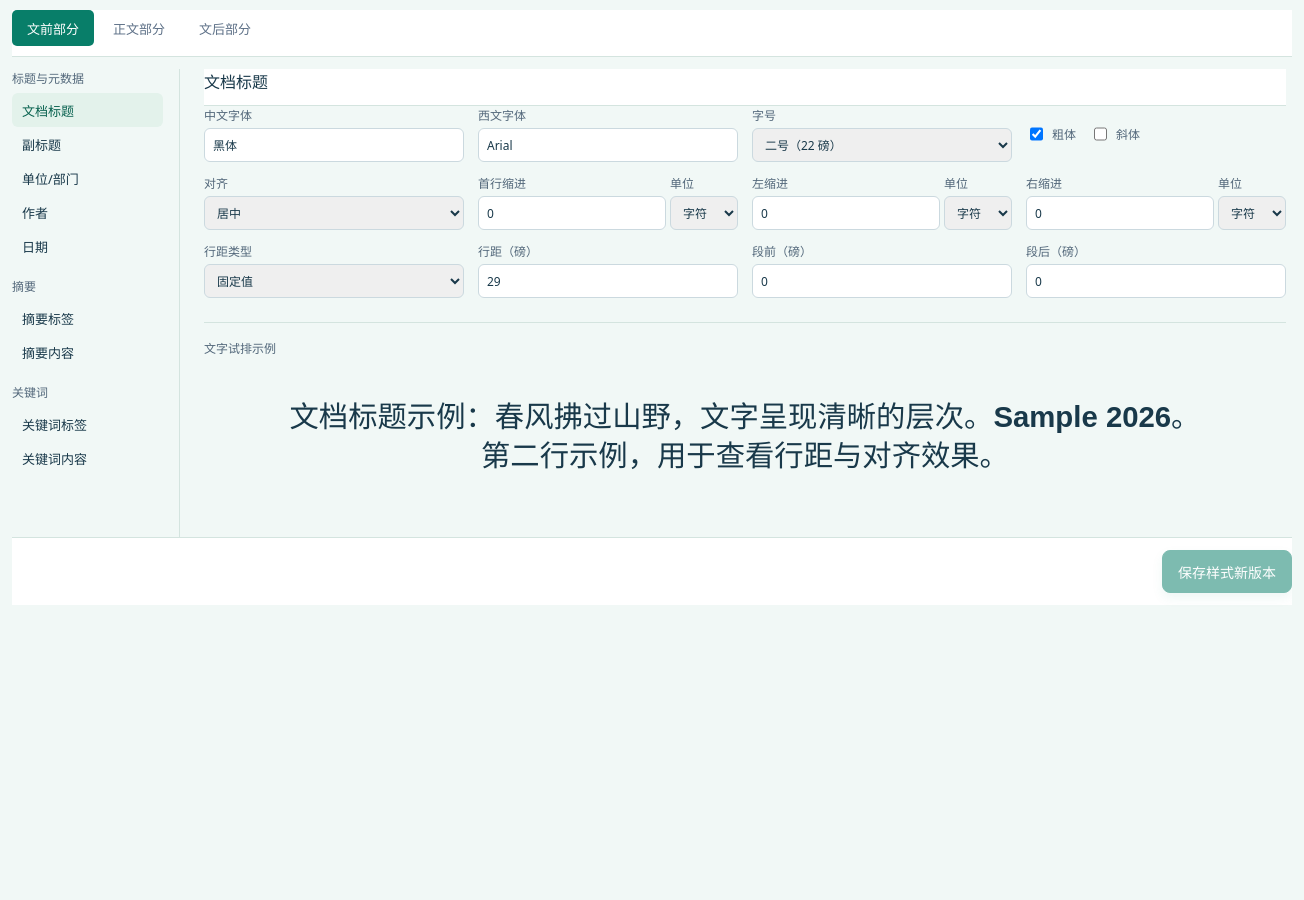
Test: StyleEditor › converts indentation units and labels multiple line spacing explicitly
Click the tab "正文部分" at (139, 28), box [98, 10, 180, 46]
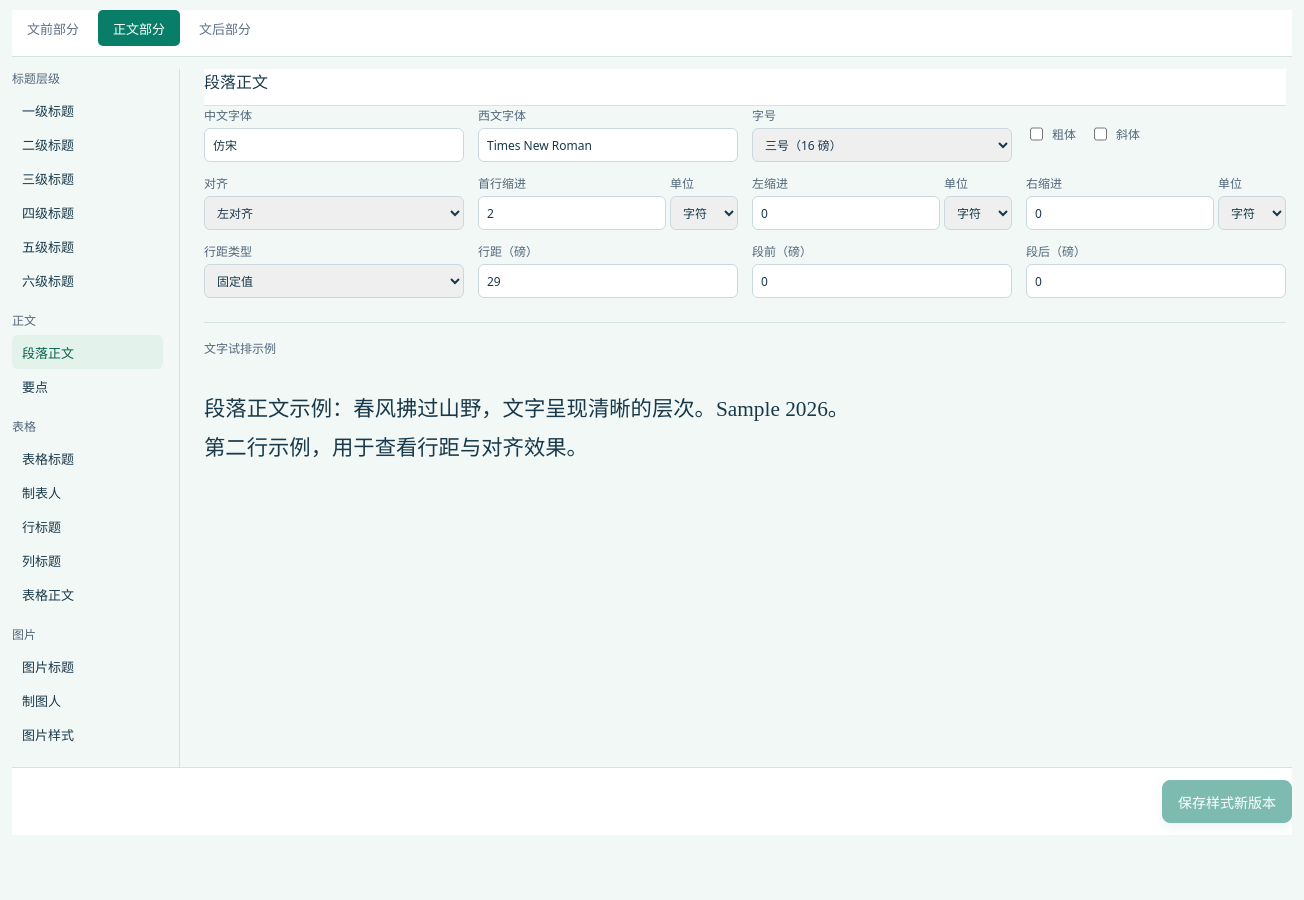
Select "厘米" in the dropdown named "段落正文首行缩进单位" at (704, 213), box [670, 196, 738, 230]
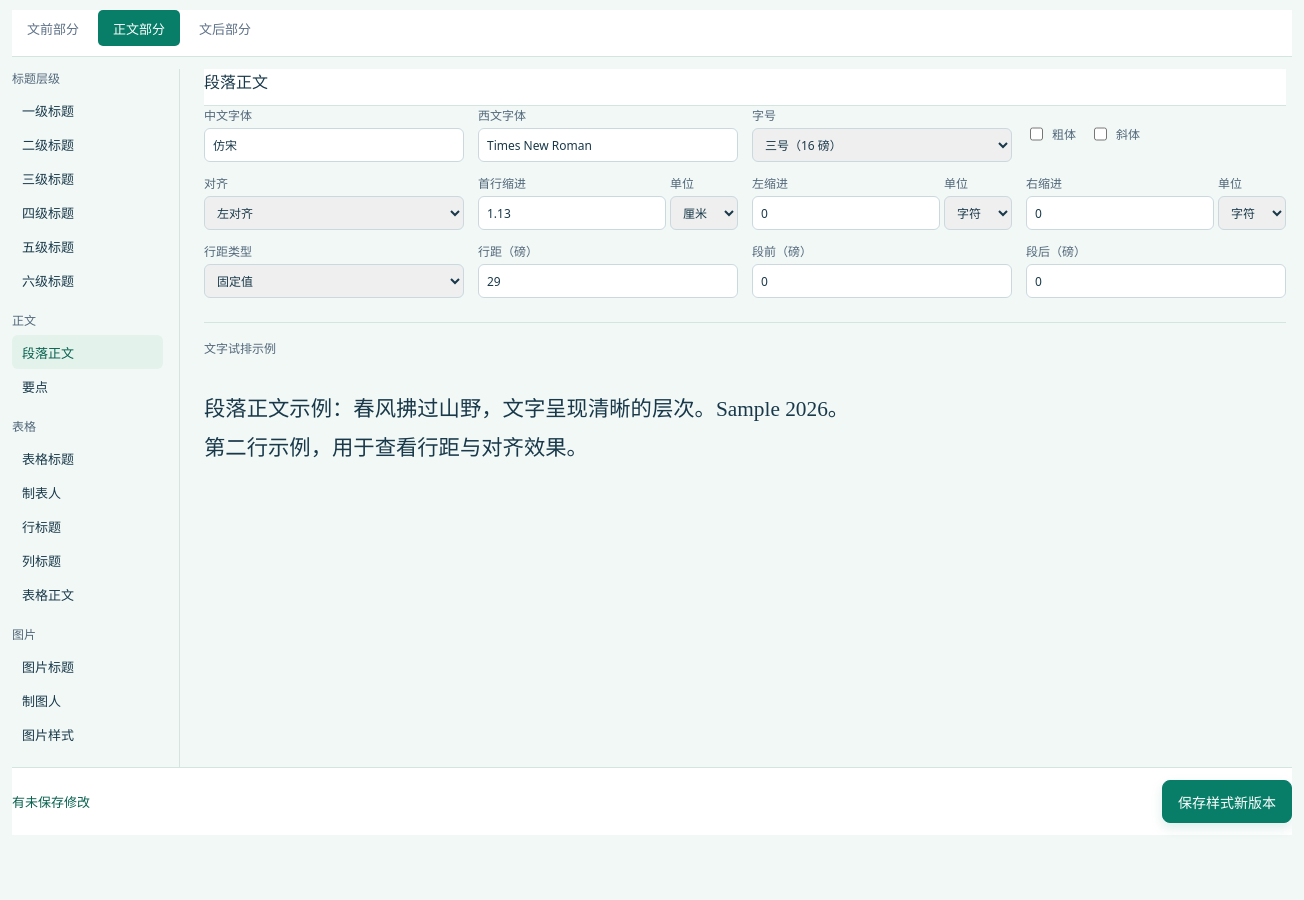
Now the number field named "段落正文首行缩进" holds "1.13", box [478, 196, 666, 230]
Select "多倍" in the dropdown named "段落正文行距类型" at (334, 281), box [204, 264, 464, 298]
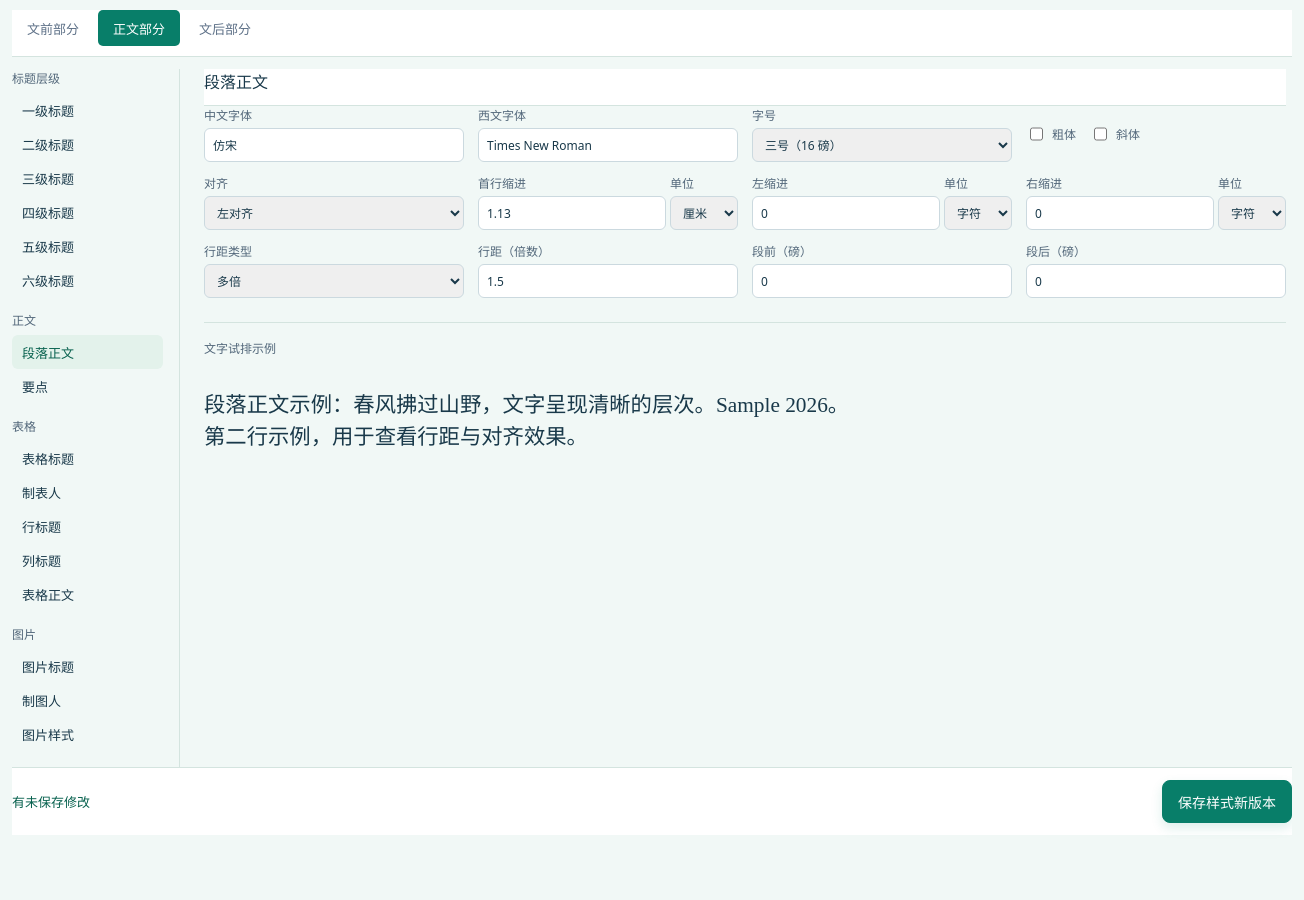
Now the number field named "段落正文行距（倍数）" holds "1.5", box [478, 264, 738, 298]
